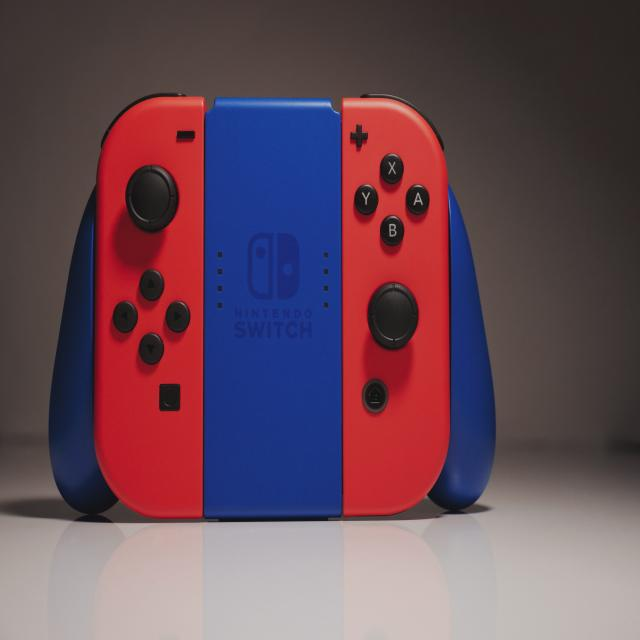Plastic: (47, 95, 498, 525)
